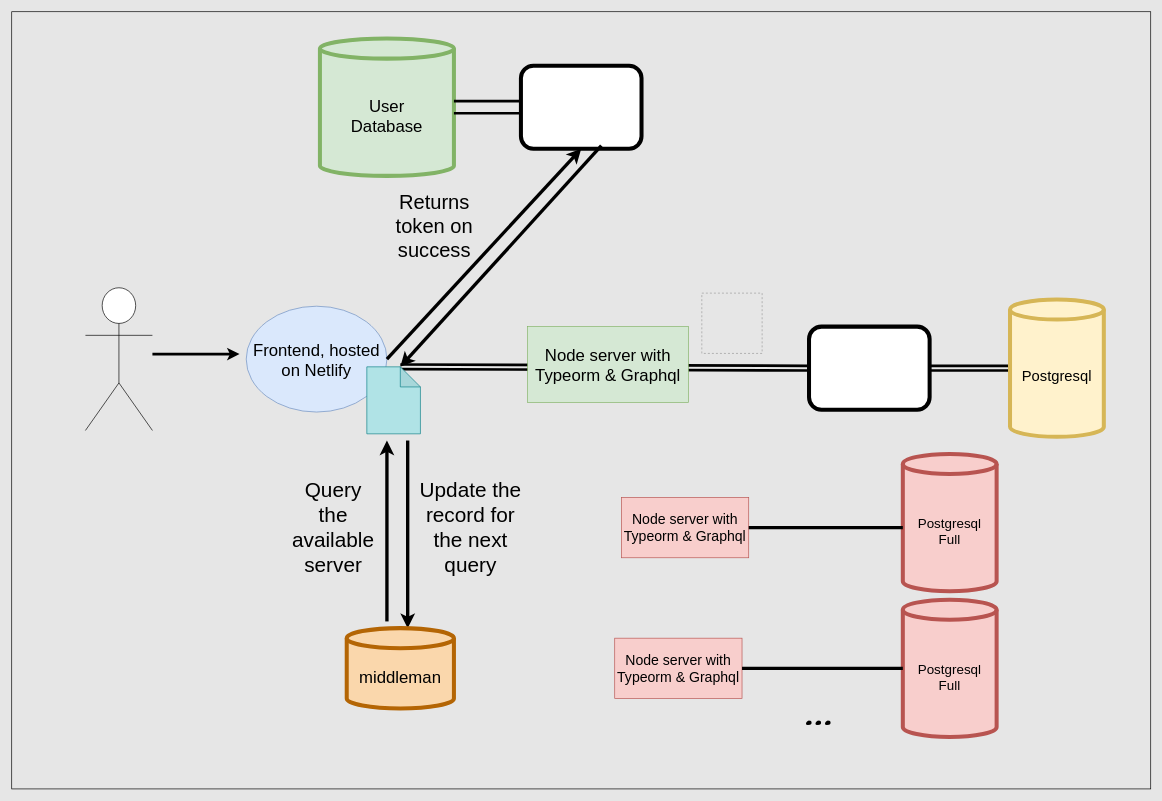
Image size: 1162x801. Some labels were removed from this diagram. Grey dashed boxes stand in for pictures. The shapes that lost their labels are listed below. From the top down, each one's centre as x and y in pixels, then its label:
(x=581, y=106): Register Login
(x=118, y=358): User
(x=869, y=367): CRUD and response
(x=393, y=400): JWT
